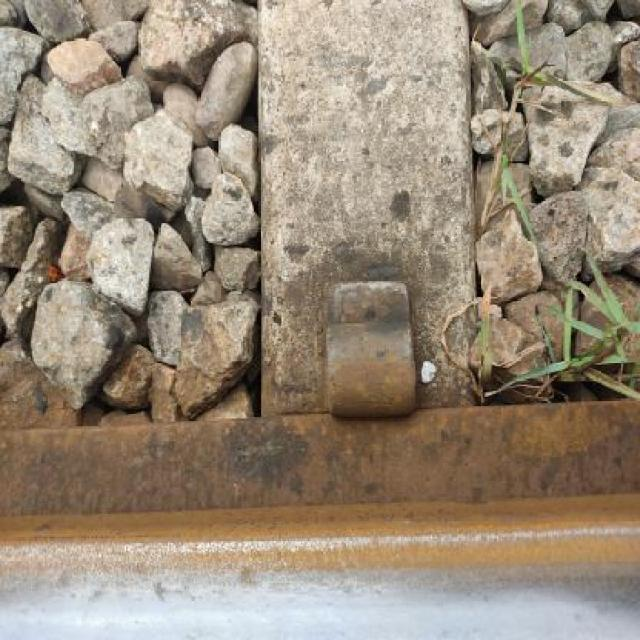defective: (4, 313, 639, 640)
